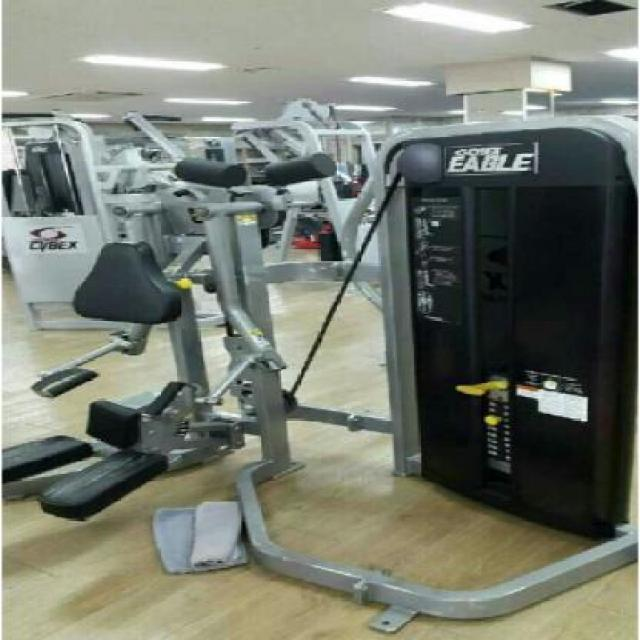lateral raises machine: (1, 200, 640, 521)
